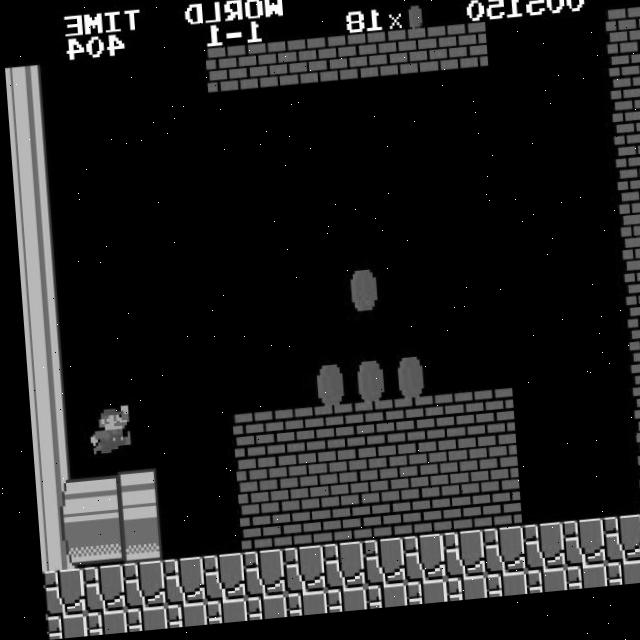1- brick_block: (443, 32, 487, 81), (467, 444, 511, 493), (470, 489, 514, 538), (403, 35, 447, 84), (427, 447, 471, 496), (430, 492, 474, 541), (363, 38, 407, 87), (387, 450, 431, 499), (390, 495, 434, 544), (323, 41, 367, 90), (347, 453, 391, 502), (350, 498, 394, 547), (283, 44, 327, 93), (307, 456, 351, 505), (310, 501, 354, 550), (243, 47, 287, 96), (267, 459, 311, 508), (270, 504, 314, 553), (203, 50, 247, 99), (227, 462, 271, 511), (230, 507, 274, 556), (465, 398, 508, 446), (425, 401, 468, 449), (385, 404, 428, 452), (345, 407, 388, 455), (305, 410, 348, 458), (265, 413, 308, 461), (225, 416, 268, 464), (604, 20, 640, 69), (607, 66, 640, 114), (609, 112, 640, 160), (612, 157, 640, 206), (615, 203, 640, 252), (617, 249, 640, 297), (620, 294, 640, 343), (623, 340, 640, 389), (625, 386, 640, 434), (628, 432, 640, 480), (631, 477, 640, 526)
11- little_mario: (81, 404, 127, 456)
14- pipe: (70, 519, 114, 569), (67, 474, 111, 523), (4, 65, 48, 114), (12, 202, 56, 251), (20, 339, 64, 388), (9, 157, 53, 205), (17, 294, 61, 342), (25, 431, 69, 479), (28, 477, 72, 525), (15, 248, 58, 297), (23, 385, 66, 434), (31, 522, 74, 571), (7, 111, 50, 159)
15- pipe_head: (107, 471, 151, 520), (110, 516, 154, 565)
17- undestructible_block: (33, 568, 77, 617), (73, 565, 116, 615), (593, 526, 636, 575), (553, 529, 596, 578), (513, 532, 556, 581), (473, 535, 516, 584), (433, 538, 476, 587), (393, 541, 436, 590), (353, 544, 396, 593), (313, 547, 356, 596), (273, 550, 316, 599), (233, 553, 276, 602), (193, 556, 236, 605), (153, 559, 196, 608), (113, 562, 156, 611), (595, 571, 638, 598), (555, 575, 598, 601), (515, 578, 558, 604), (475, 581, 518, 607), (435, 584, 478, 610), (395, 587, 438, 613), (355, 590, 398, 616), (315, 593, 358, 619), (275, 596, 318, 622), (235, 599, 278, 625), (195, 602, 238, 628), (155, 605, 198, 631), (115, 608, 158, 634), (75, 611, 118, 637), (36, 614, 78, 639), (633, 523, 640, 572), (636, 569, 640, 594)
2- coin: (382, 358, 426, 407), (342, 361, 386, 410), (302, 364, 346, 413), (337, 270, 380, 319)
